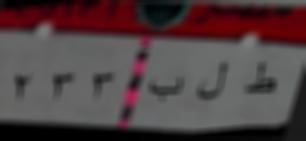2: (3, 63, 40, 109)
3: (86, 64, 120, 106), (48, 61, 79, 104)
Taa: (243, 58, 287, 102)
baa: (146, 69, 186, 106)
laam: (192, 56, 232, 107)
